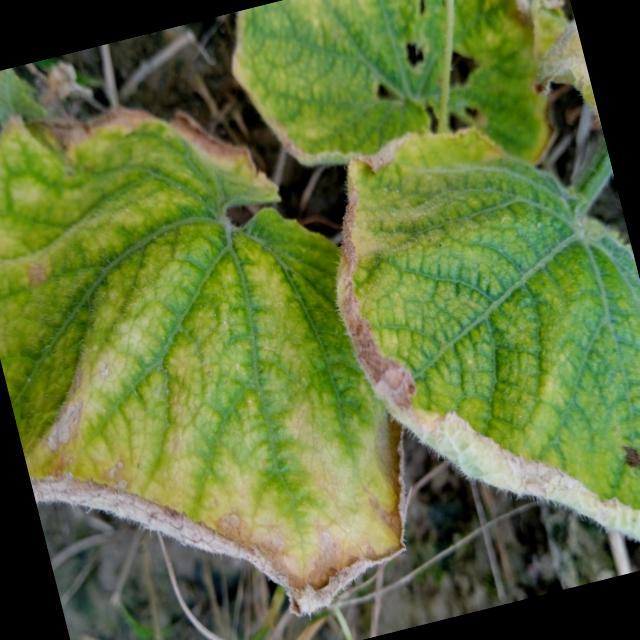cucumber_gummy: (0, 40, 444, 640), (292, 67, 640, 627), (199, 0, 609, 244)
